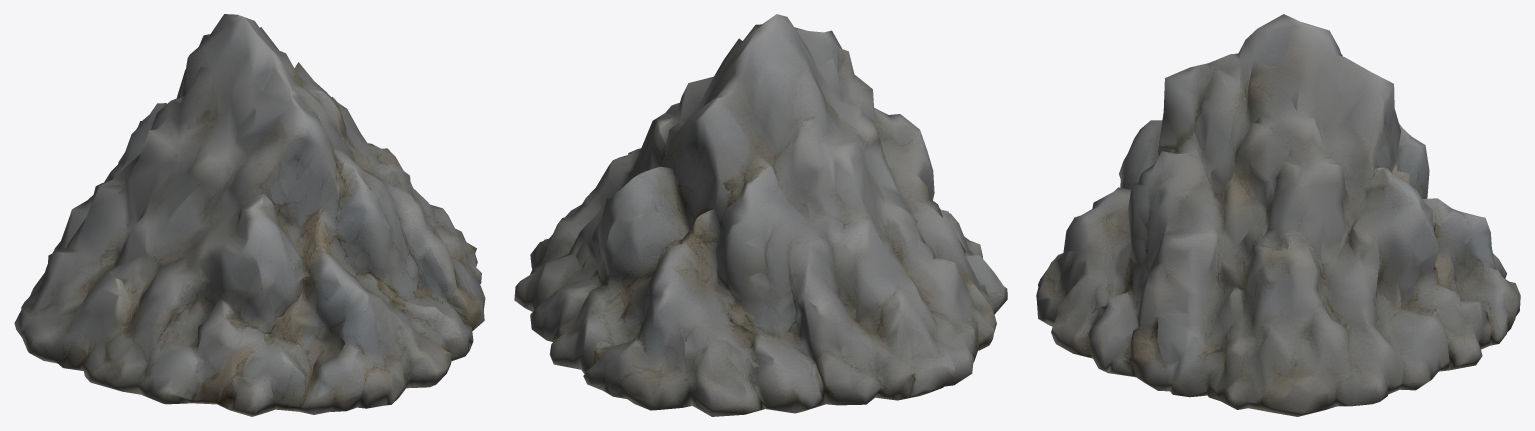
The model's file is mountain_single.glb.
3 views of the same model, side by side, from view 1: azimuth 30°, elevation 25°; view 2: azimuth 150°, elevation 25°; view 3: azimuth 270°, elevation 25° (orthographic). The views are drawn at different scales.
Parts seen in each view (by area): view 1: tripo_node_4afaff1e-9af0-4427-8b58-c7e6c844cf82; view 2: tripo_node_4afaff1e-9af0-4427-8b58-c7e6c844cf82; view 3: tripo_node_4afaff1e-9af0-4427-8b58-c7e6c844cf82.
Boxes of the visible parts, x1,y1,x2,y2 form: tripo_node_4afaff1e-9af0-4427-8b58-c7e6c844cf82: (14,14,485,416); tripo_node_4afaff1e-9af0-4427-8b58-c7e6c844cf82: (514,14,1007,416); tripo_node_4afaff1e-9af0-4427-8b58-c7e6c844cf82: (1036,14,1520,416).
Size of the model in its own units: 1 by 0.6662 by 0.9921.
1 material, 1 textured.
